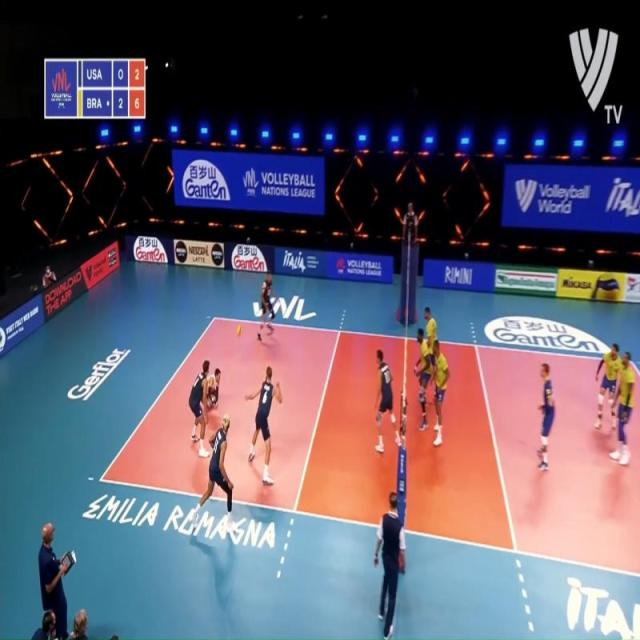volleyball: (235, 323, 242, 337)
